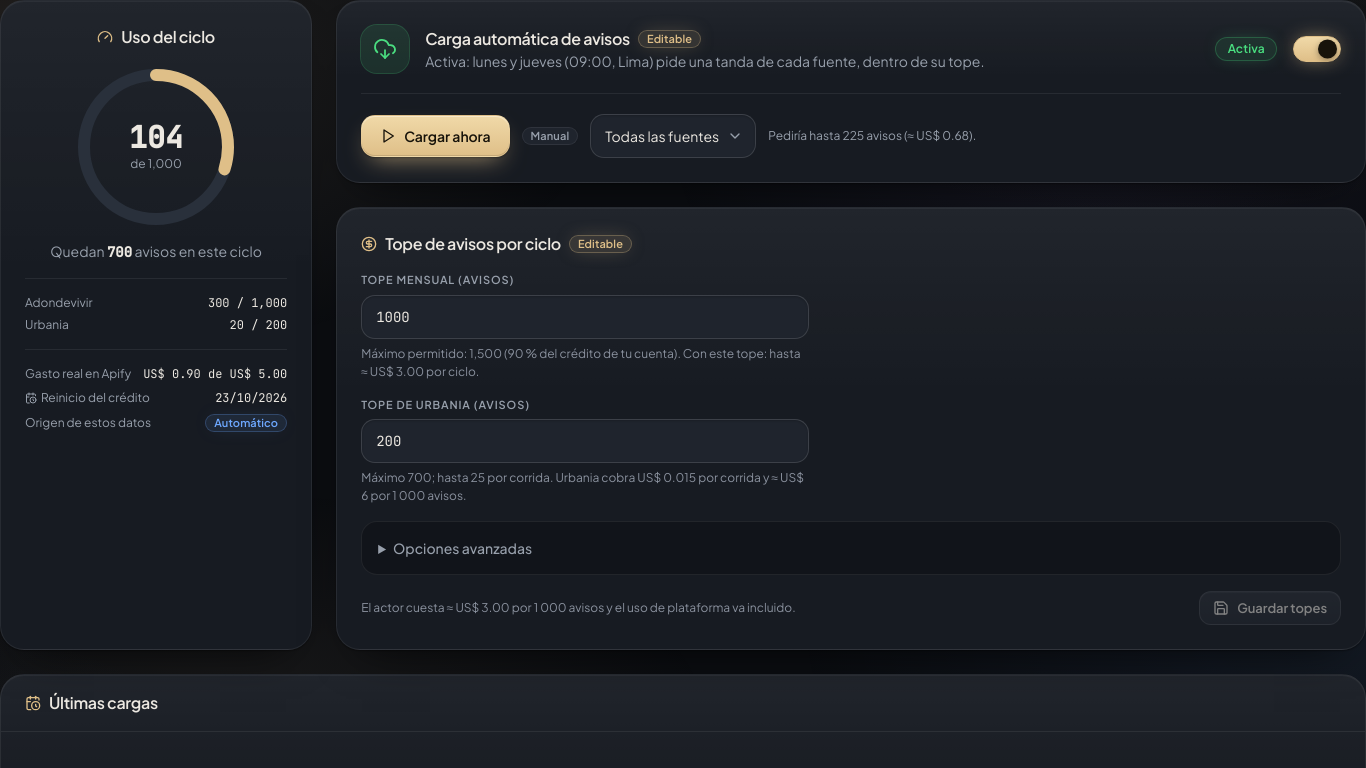
CargaSection › no deja pasar el tope de Urbania de su máximo
Clear the field labelled "Tope de Urbania (avisos)". click: coordinates (585, 441)
box: [361,419,809,463]
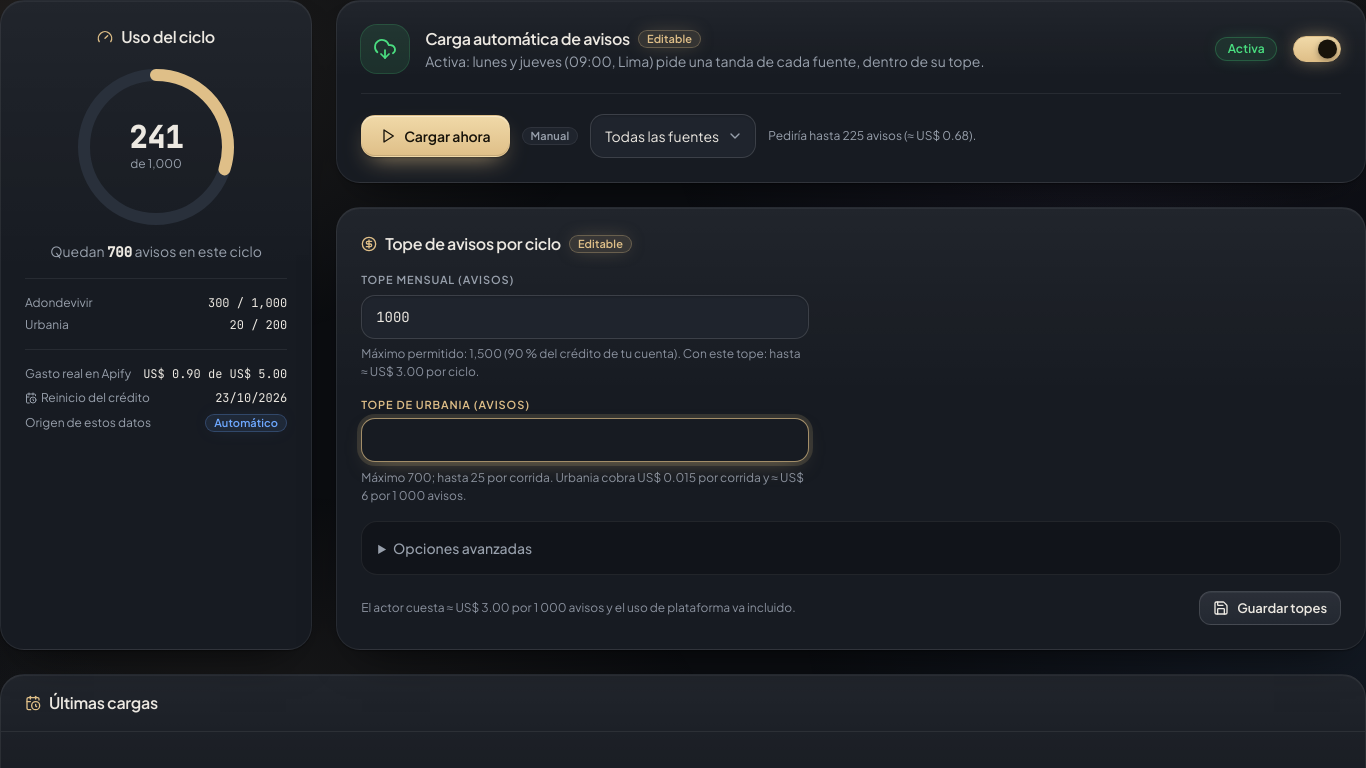
Type "9999" into the field labelled "Tope de Urbania (avisos)". click: coordinates (585, 440)
box: [361,418,809,462]
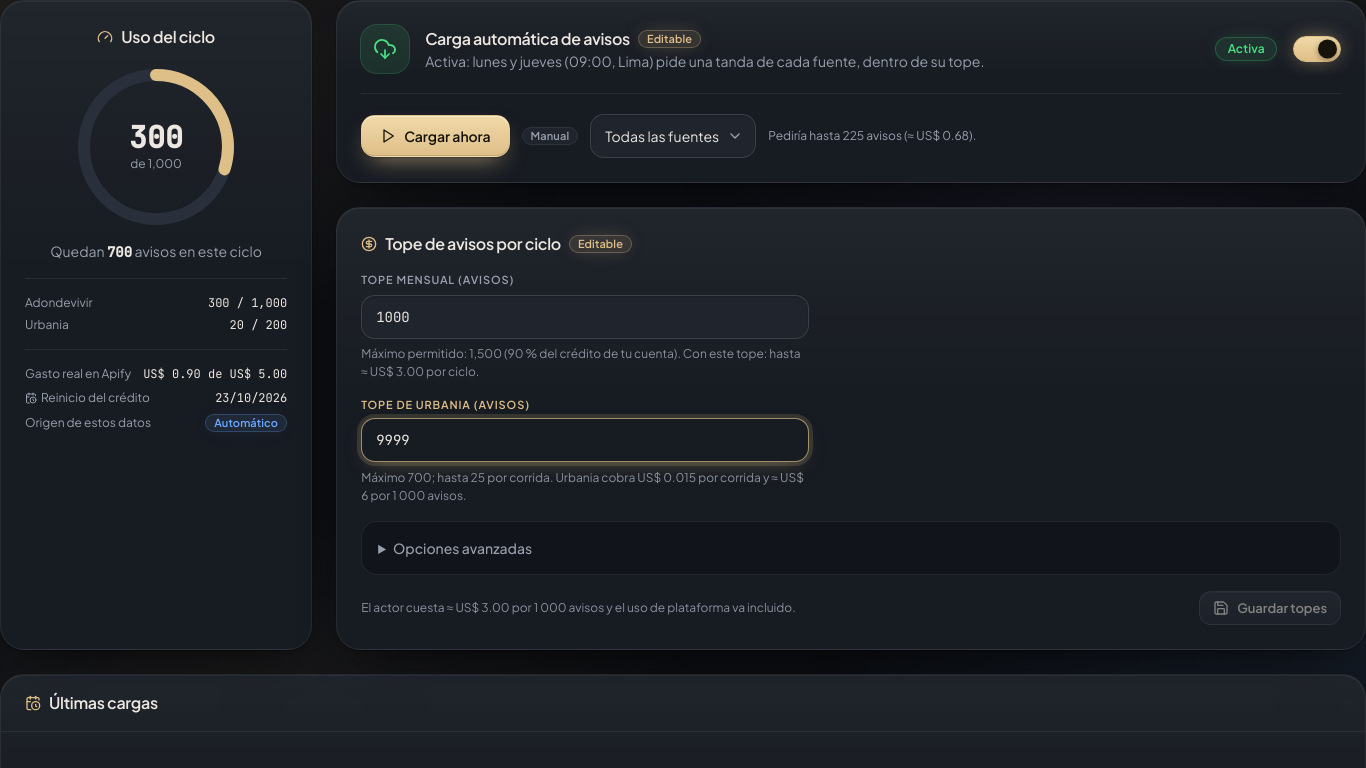
Expected: the button "Guardar topes" is disabled, [1199,591,1341,625]
